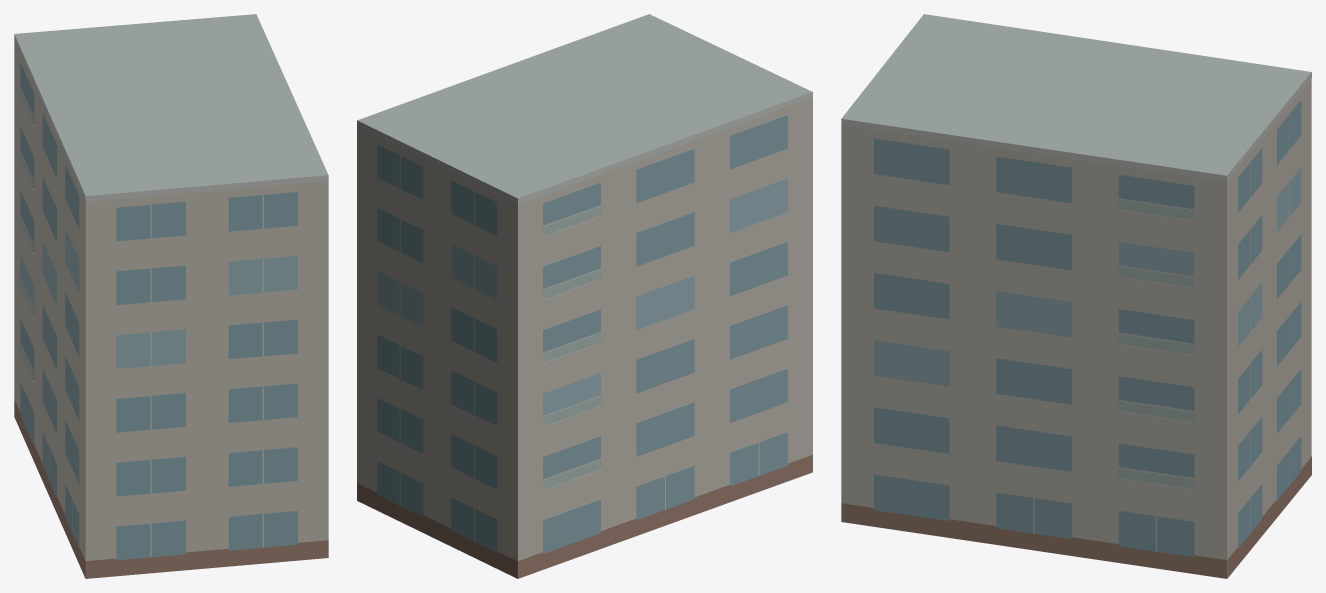
The model's file is survey-upis-32841985.glb.
The picture shows the model from 3 angles, left to right: view 1: azimuth 30°, elevation 25°; view 2: azimuth 150°, elevation 25°; view 3: azimuth 270°, elevation 25°; orthographic projection. The views are drawn at different scales.
Parts seen in each view (by area): view 1: survey-upis-32841985.tmp; view 2: survey-upis-32841985.tmp; view 3: survey-upis-32841985.tmp.
Boxes of the visible parts, left/top/right/bottom form: survey-upis-32841985.tmp: left=14, top=14, right=328, bottom=578; survey-upis-32841985.tmp: left=357, top=14, right=812, bottom=578; survey-upis-32841985.tmp: left=841, top=14, right=1311, bottom=578.
Bounding box in the file's own units: 13.52 × 15.7 × 16.61.
